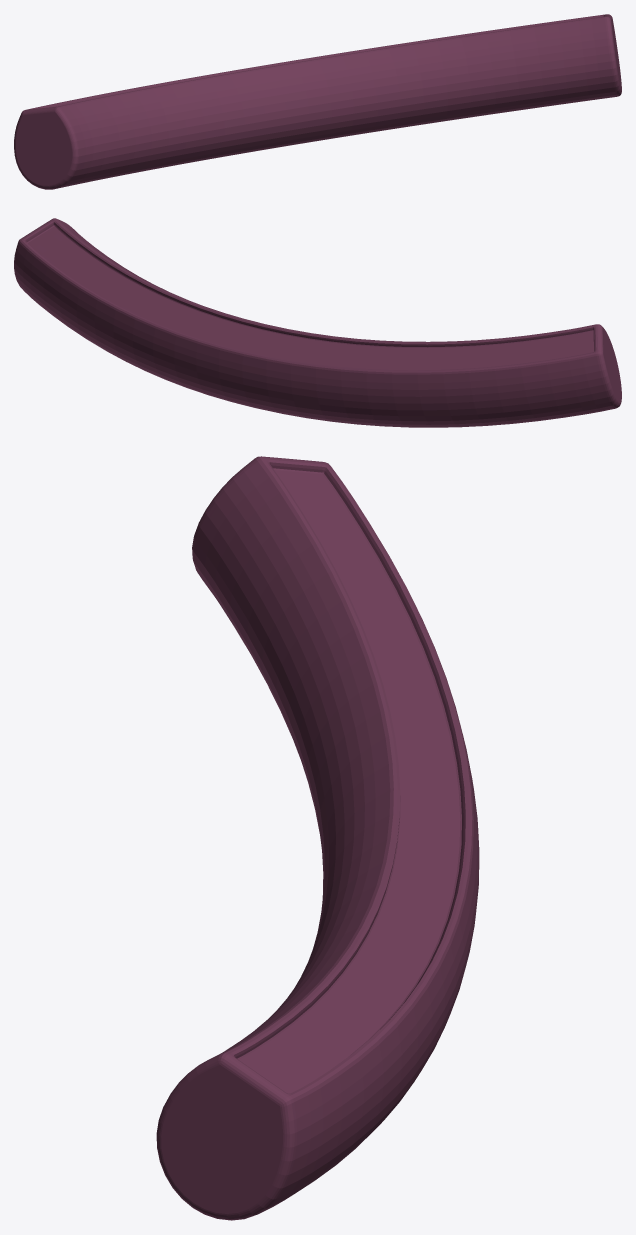
Rendered from Lampa.fbx.
The picture shows the model from 3 angles, top to bottom: view 1: azimuth 30°, elevation 25°; view 2: azimuth 150°, elevation 25°; view 3: azimuth 270°, elevation 25°; orthographic projection. The views are drawn at different scales.
Parts seen in each view (by area): view 1: BeInspiration_69:Circle004; view 2: BeInspiration_69:Circle004; view 3: BeInspiration_69:Circle004.
Boxes of the visible parts, x1=… form: BeInspiration_69:Circle004: x1=14, y1=14, x2=621, y2=189; BeInspiration_69:Circle004: x1=14, y1=218, x2=621, y2=427; BeInspiration_69:Circle004: x1=156, y1=456, x2=479, y2=1220.
Bounding box in the file's own units: 81.15 × 16.68 × 19.12.
